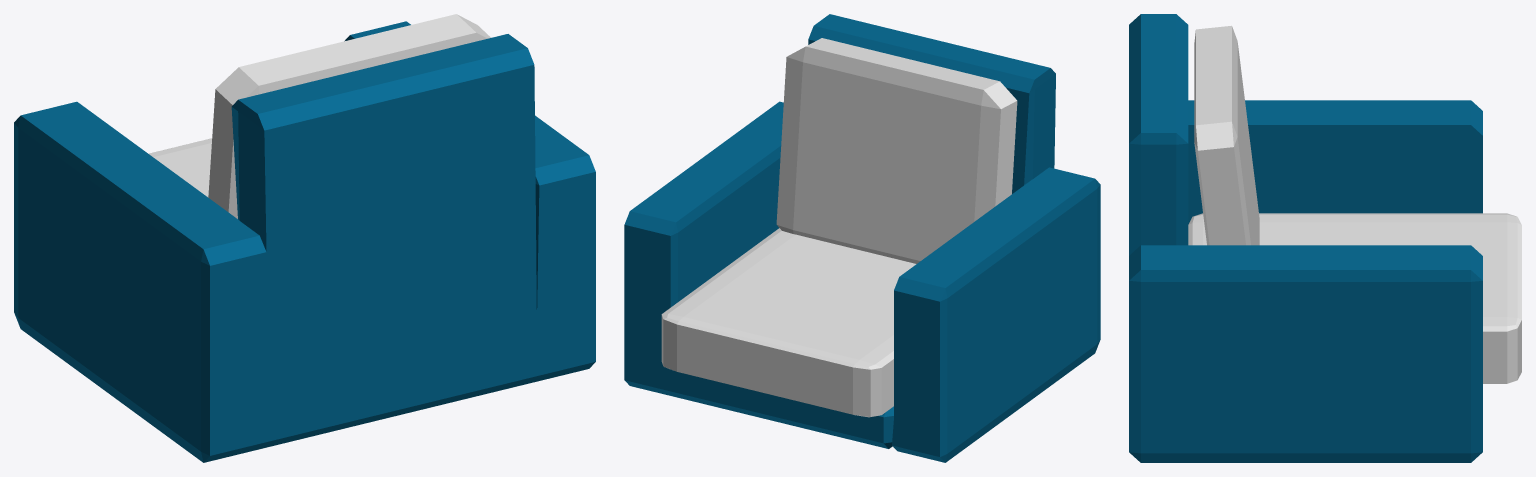
File: Sofa.fbx
The picture shows the model from 3 angles, left to right: view 1: azimuth 30°, elevation 25°; view 2: azimuth 150°, elevation 25°; view 3: azimuth 270°, elevation 25°; orthographic projection. The views are drawn at different scales.
Visible parts, largest first — view 1: sofa; view 2: sofa; view 3: sofa.
Part boxes in pixels (x1,y1,x2,y2): sofa: [14, 14, 595, 462]; sofa: [624, 14, 1100, 462]; sofa: [1129, 14, 1521, 462].
Bounding box in the file's own units: 538 × 445 × 519.
